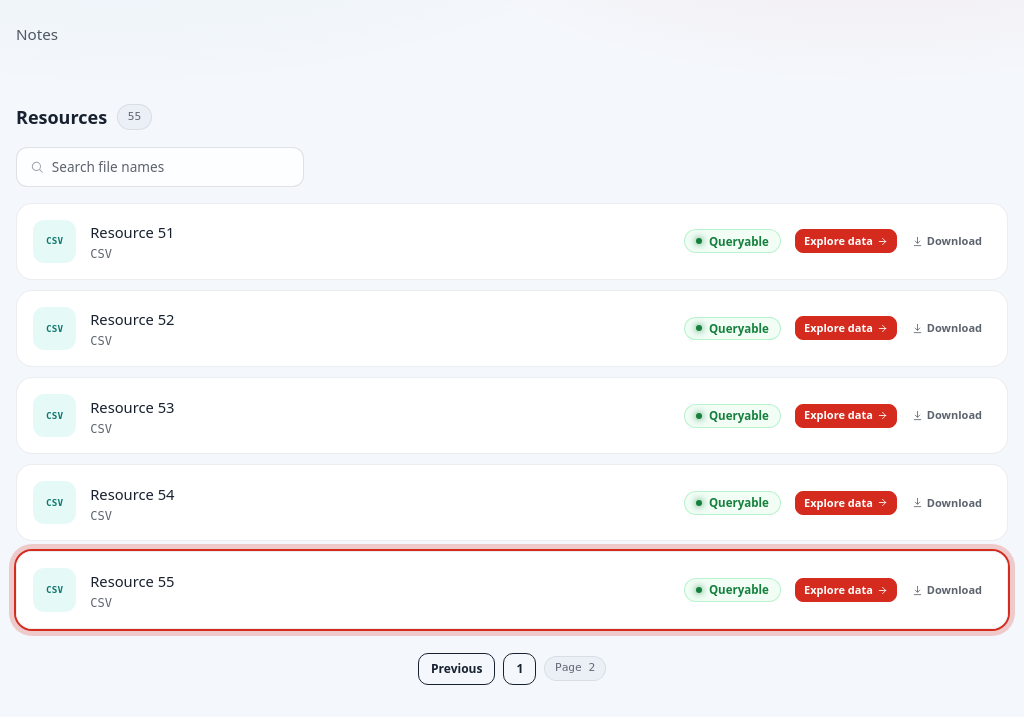
Test: DatasetPage ingestion › opens the correct resource page for a highlight and keeps every file reachable
(page scrolled)
Check: the link "Resource 55" is shown, box [90, 571, 174, 591]
Click the link "Previous". click: coordinates (457, 669)
box: [418, 653, 495, 685]
(page scrolled)
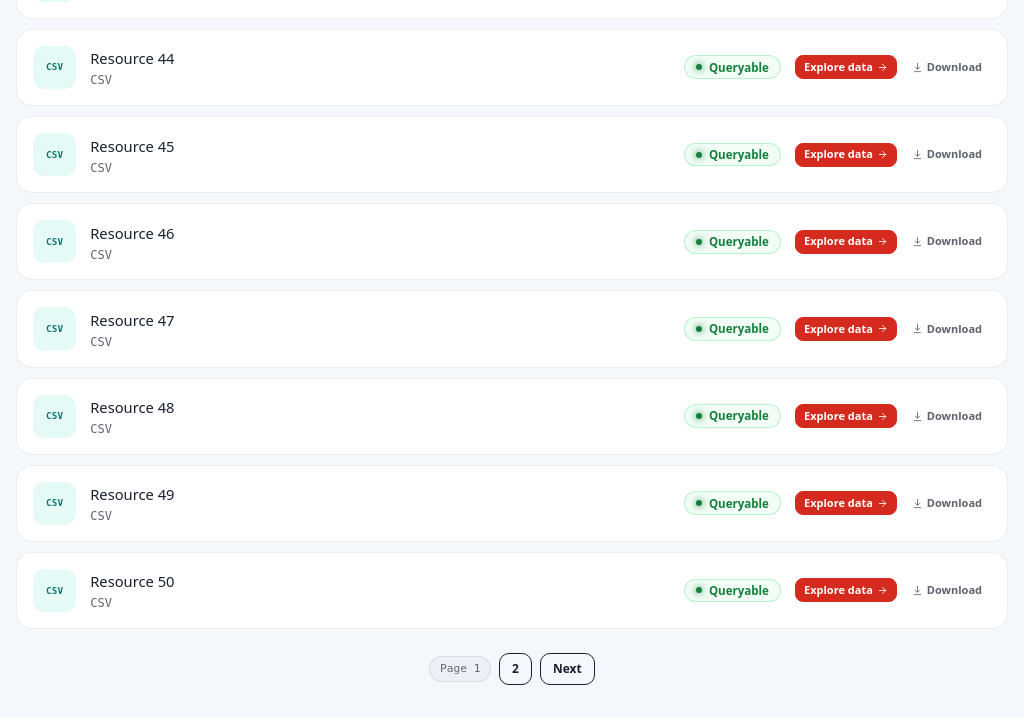
Check: the link "Resource 55" is gone
